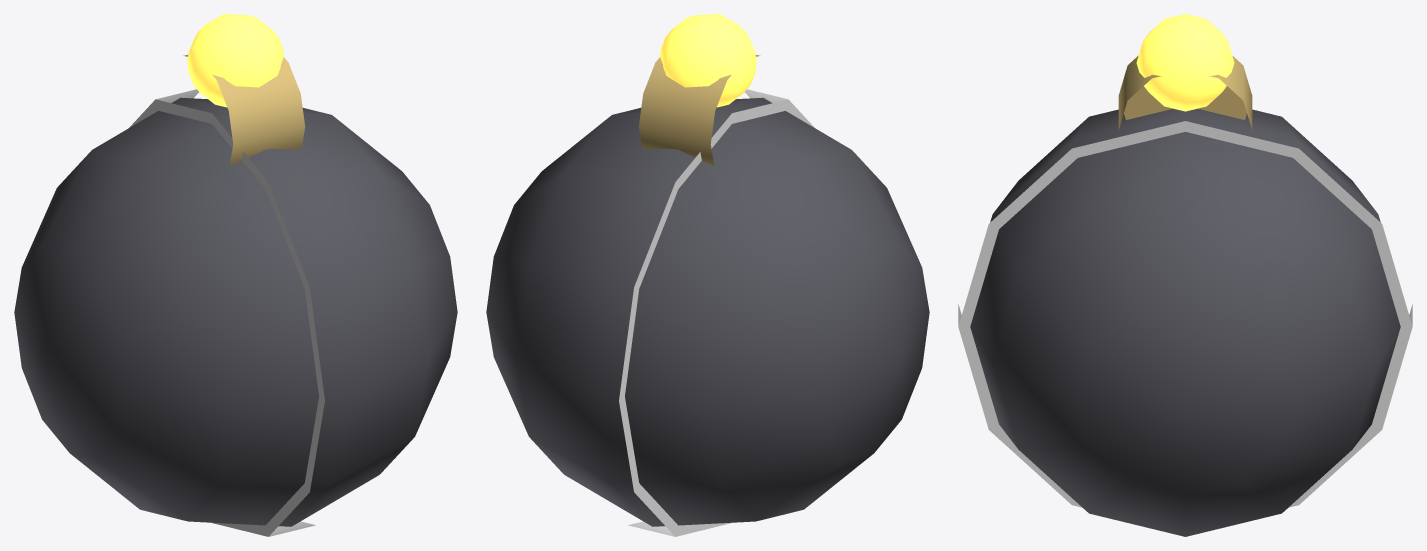
File: mortar.glb
3 views of the same model, side by side, from view 1: azimuth 30°, elevation 25°; view 2: azimuth 150°, elevation 25°; view 3: azimuth 270°, elevation 25° (orthographic).
Parts seen in each view (by area): view 1: model; view 2: model; view 3: model.
Boxes of the visible parts, <box> form: model: <box>14,14,457,536</box>; model: <box>486,14,929,536</box>; model: <box>958,14,1412,536</box>.
Size of the model in its own units: 0.32 by 0.3984 by 0.3264.
